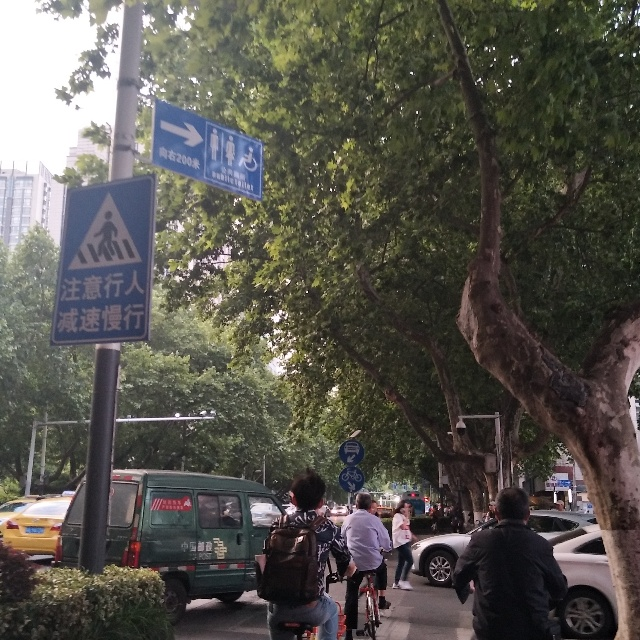crosswalk: (57, 180, 149, 347)
